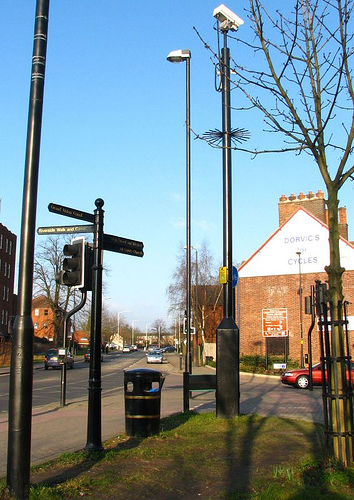Traffic Light: (59, 237, 94, 294)
